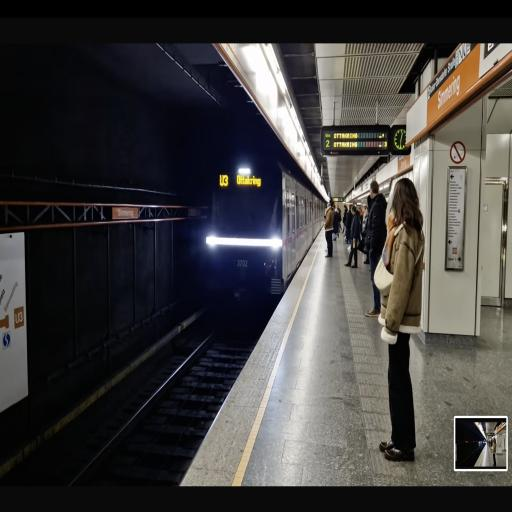X-Wagen: (204, 156, 326, 283)
